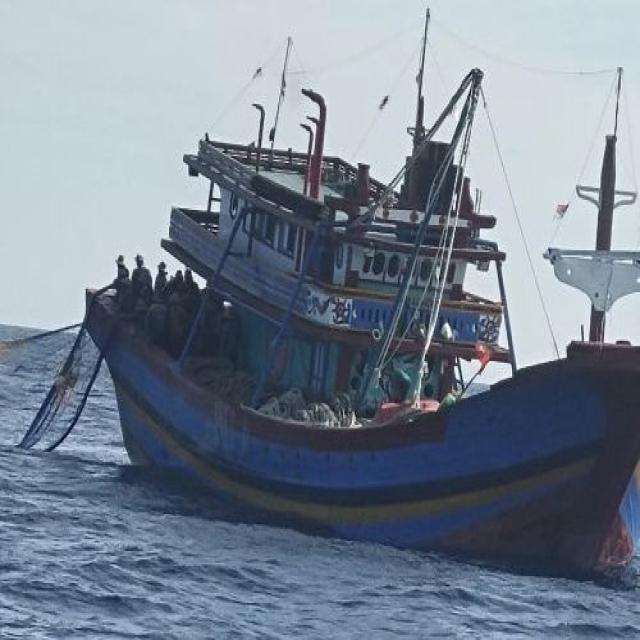Fishing Boat: (0, 24, 547, 512)
